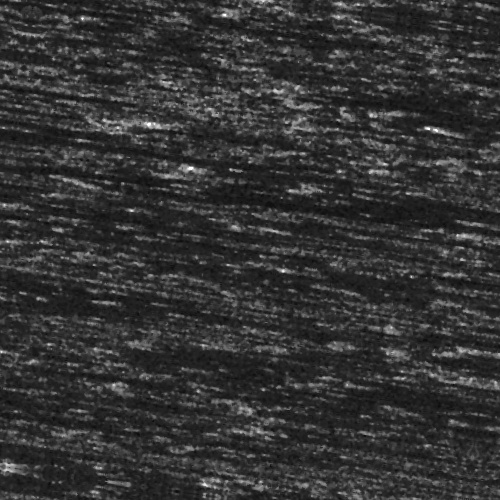object: (259, 422, 322, 433), (37, 491, 100, 500), (270, 176, 311, 187), (449, 200, 500, 207), (449, 344, 500, 351), (459, 184, 490, 193), (465, 313, 500, 320), (0, 252, 23, 261), (394, 100, 425, 105), (205, 0, 236, 4), (135, 135, 176, 138), (492, 63, 500, 68)
shadow: (291, 176, 500, 187), (0, 163, 250, 172), (291, 422, 437, 433), (0, 470, 228, 475), (221, 0, 486, 4), (0, 252, 100, 261), (0, 114, 76, 123), (0, 310, 39, 327), (69, 491, 138, 500), (156, 135, 289, 138), (0, 213, 32, 224), (410, 100, 479, 105), (0, 0, 55, 6), (486, 344, 500, 351)
